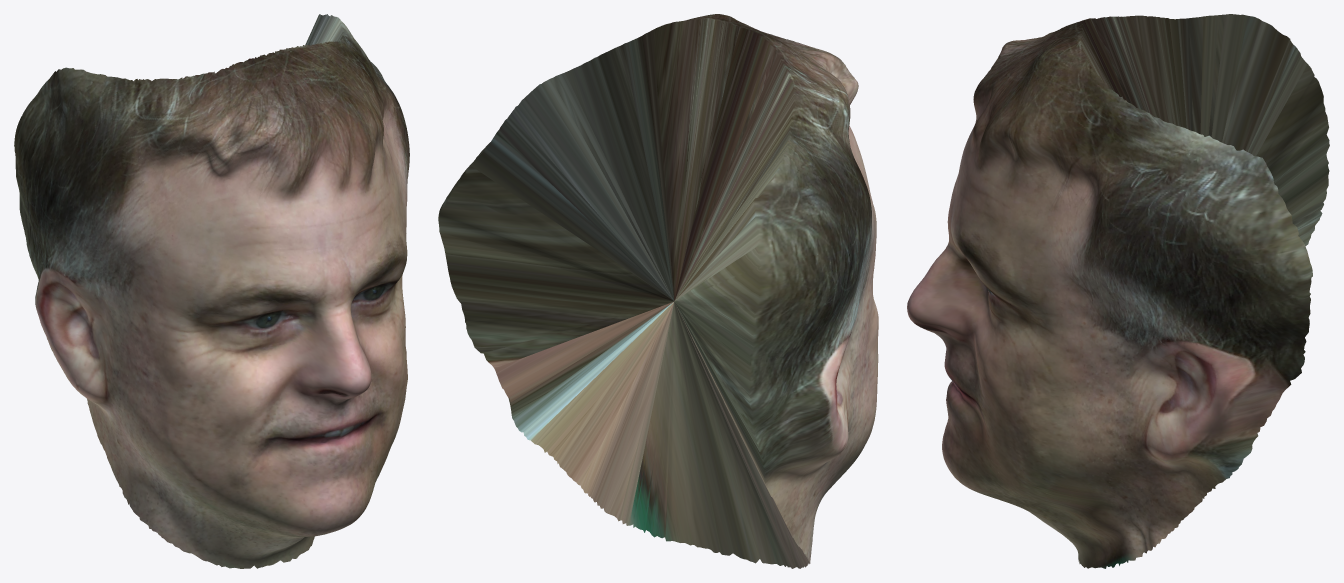
File: bergman2.fbx
The picture shows the model from 3 angles, left to right: view 1: azimuth 30°, elevation 25°; view 2: azimuth 150°, elevation 25°; view 3: azimuth 270°, elevation 25°; orthographic projection. The views are drawn at different scales.
Visible parts, largest first — view 1: head3d:Mesh; view 2: head3d:Mesh; view 3: head3d:Mesh.
Boxes of the visible parts, <box> form: head3d:Mesh: <box>14,14,409,568</box>; head3d:Mesh: <box>438,14,878,568</box>; head3d:Mesh: <box>907,14,1329,568</box>.
Bounding box in the file's own units: 188 × 264 × 193.
Materials: 1 (1 with a texture image).
